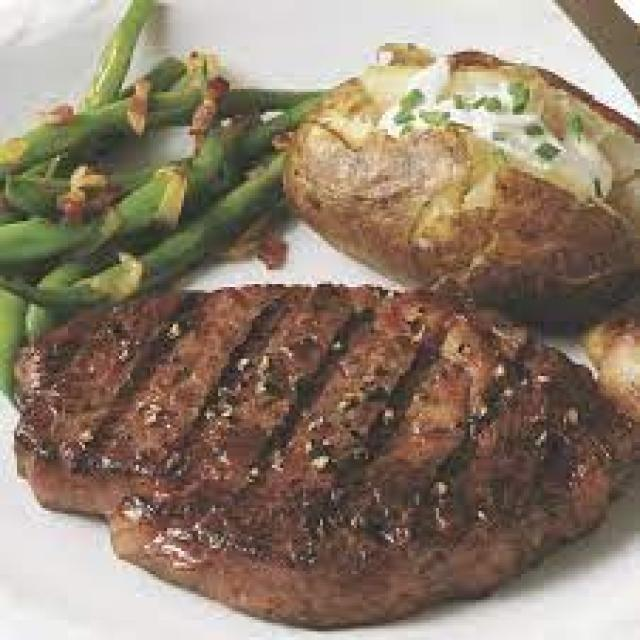Carne: (9, 278, 637, 628), (275, 37, 637, 316)
